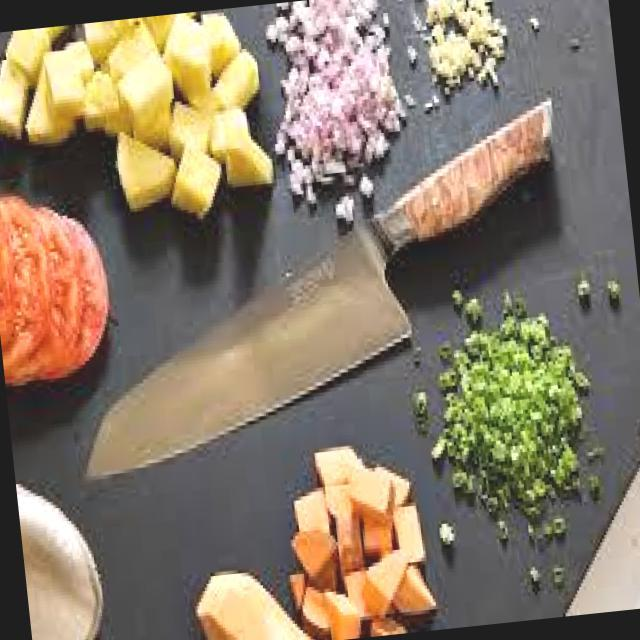Knife: (44, 64, 602, 540)
